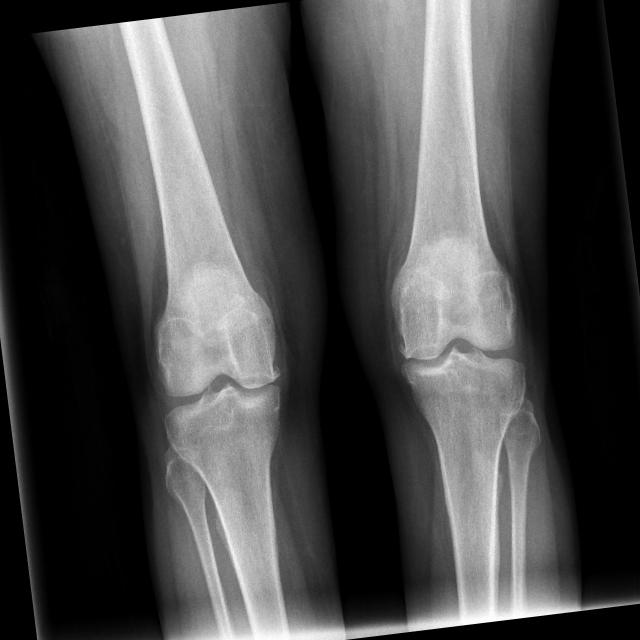Knee: (149, 318, 292, 452), (392, 279, 526, 410)
